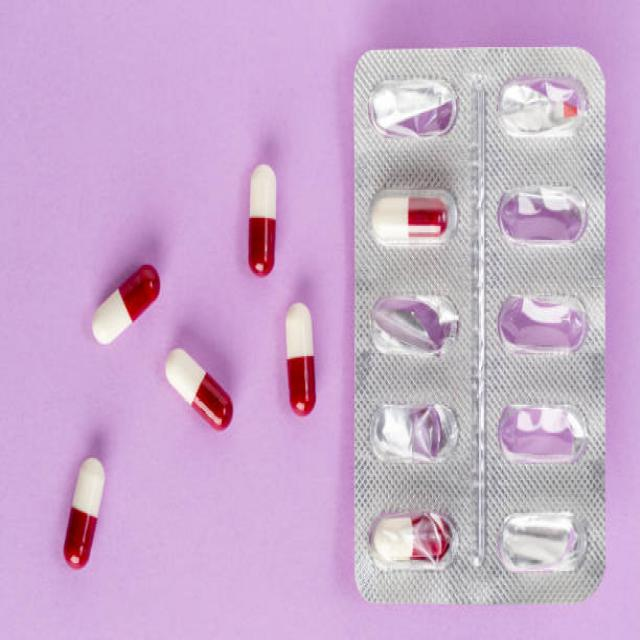Empty: (491, 498, 598, 586), (364, 276, 462, 370), (494, 388, 590, 479), (362, 64, 467, 147), (497, 275, 592, 365), (489, 171, 593, 253), (366, 386, 462, 471), (492, 68, 588, 147)
Pill: (359, 167, 465, 259), (358, 489, 462, 582)
